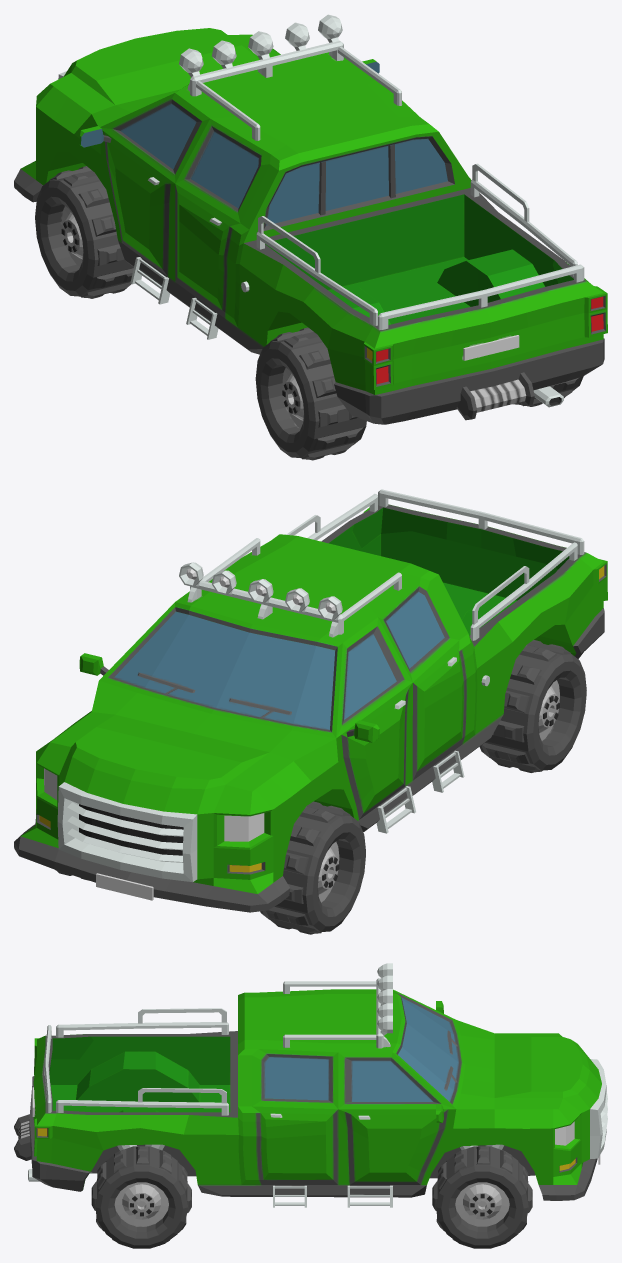
3 renders of one model, top to bottom at view 1: azimuth 30°, elevation 25°; view 2: azimuth 150°, elevation 25°; view 3: azimuth 270°, elevation 25°, orthographic. The views are drawn at different scales.
Visible parts, largest first — view 1: kar_6_.002; view 2: kar_6_.002; view 3: kar_6_.002.
Boxes of the visible parts, x1,y1,x2,y2 form: kar_6_.002: (14,14,607,460); kar_6_.002: (14,489,607,934); kar_6_.002: (14,963,607,1248).
Size of the model in its own units: 0.7265 by 0.6409 by 1.62.
Materials: 2 (2 with a texture image).
